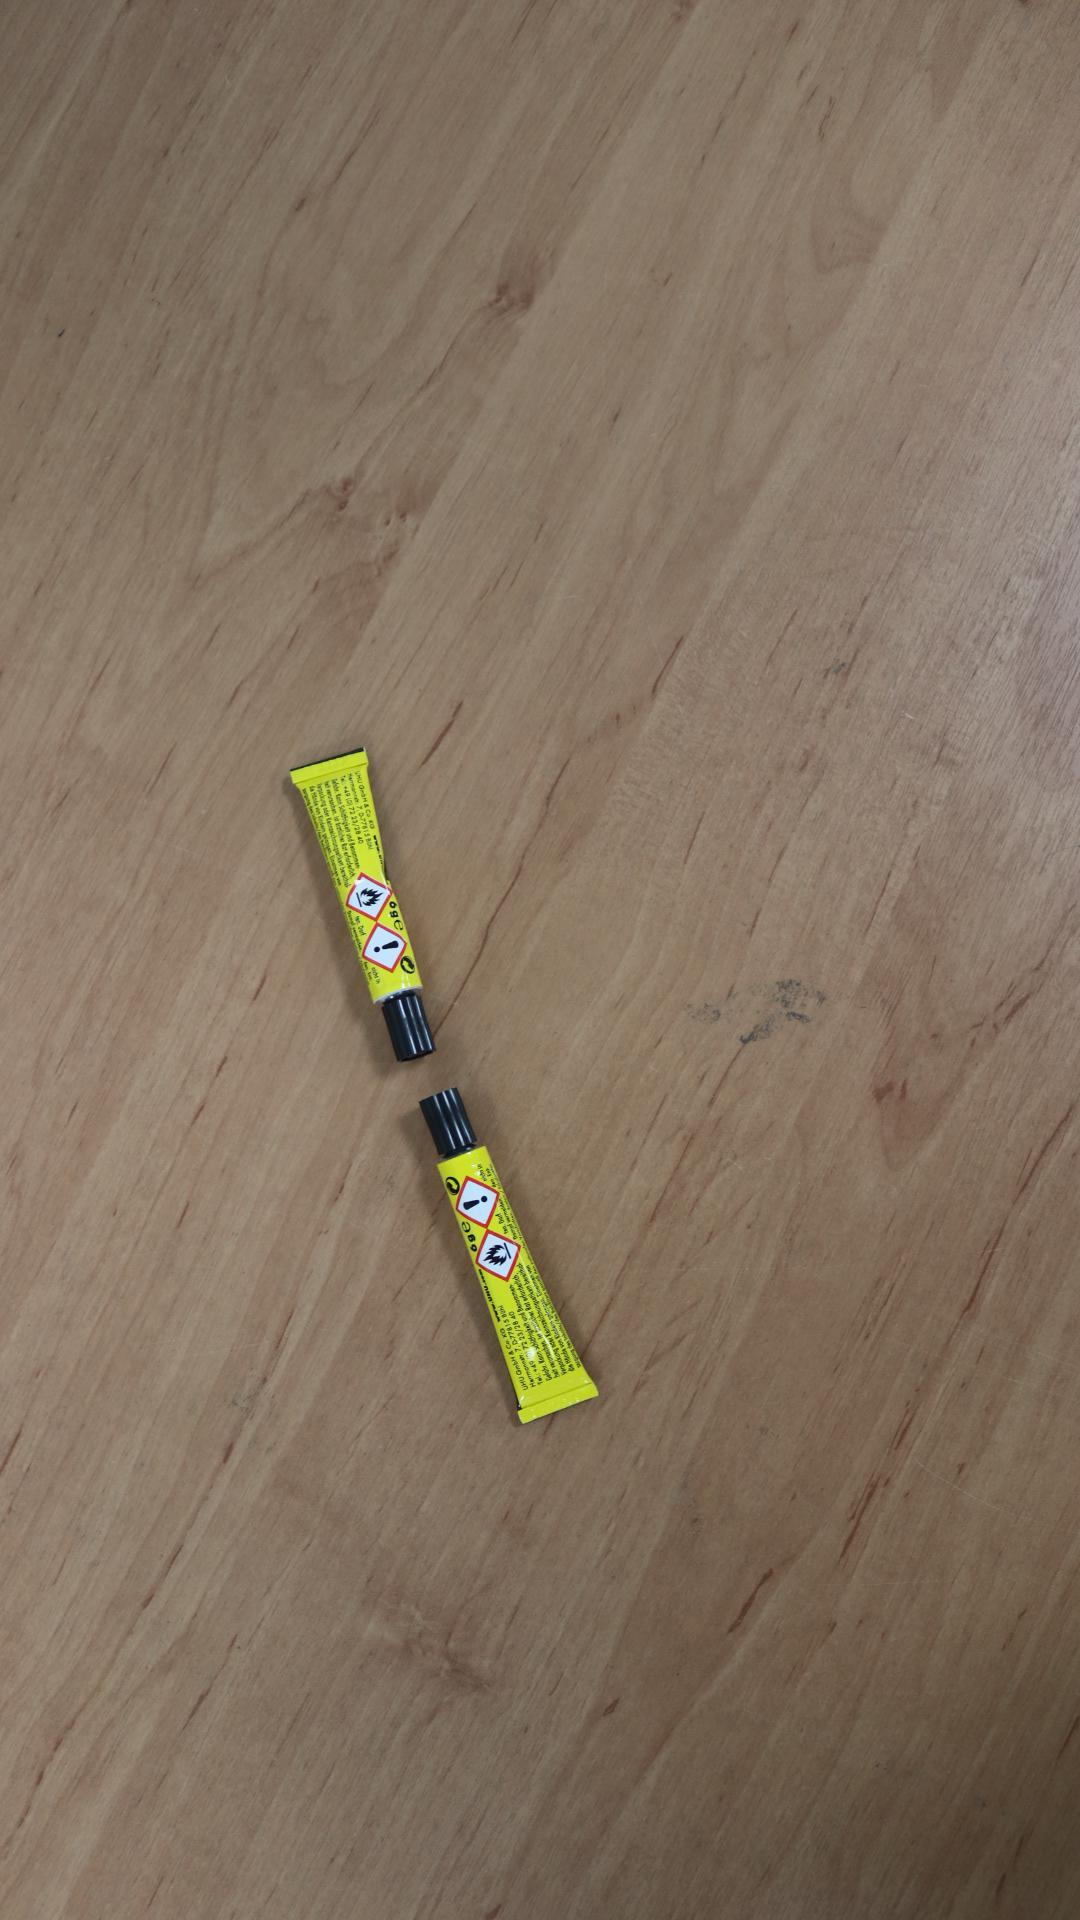Head: (407, 1024, 409, 1026), (446, 1120, 448, 1122)
Tail: (553, 1403, 555, 1405), (324, 765, 326, 767)
Tube: (418, 1087, 599, 1424), (290, 747, 437, 1062)
